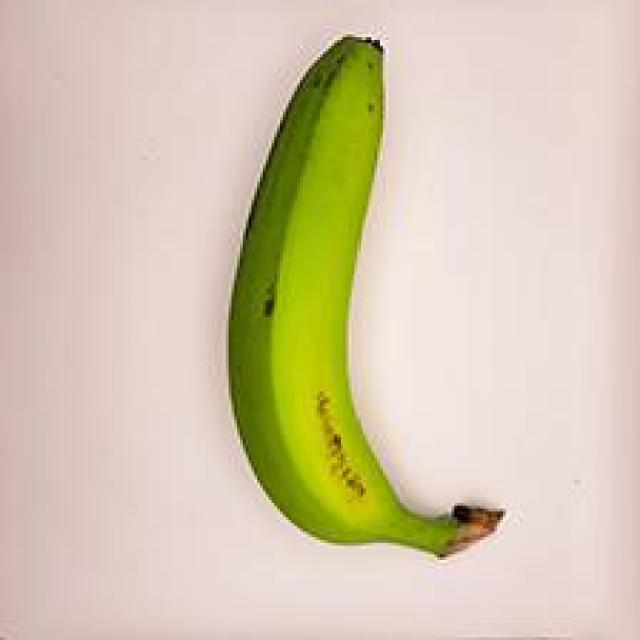unripe: (195, 25, 538, 563)
